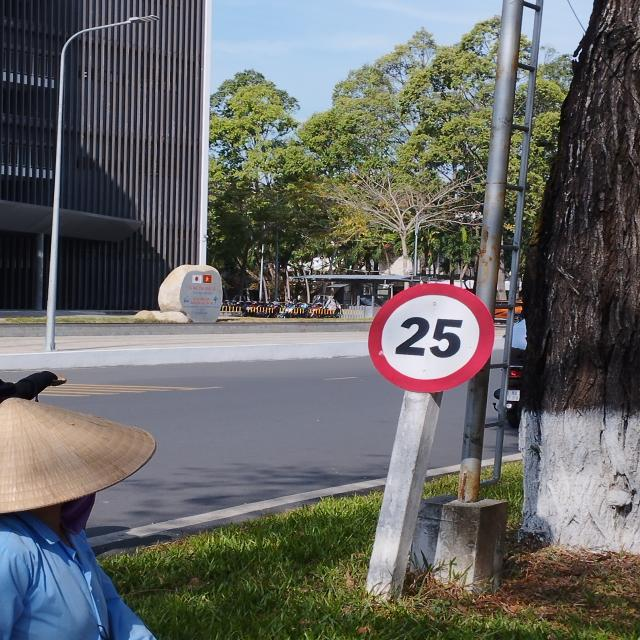Tre_Em: (370, 283, 495, 391)
